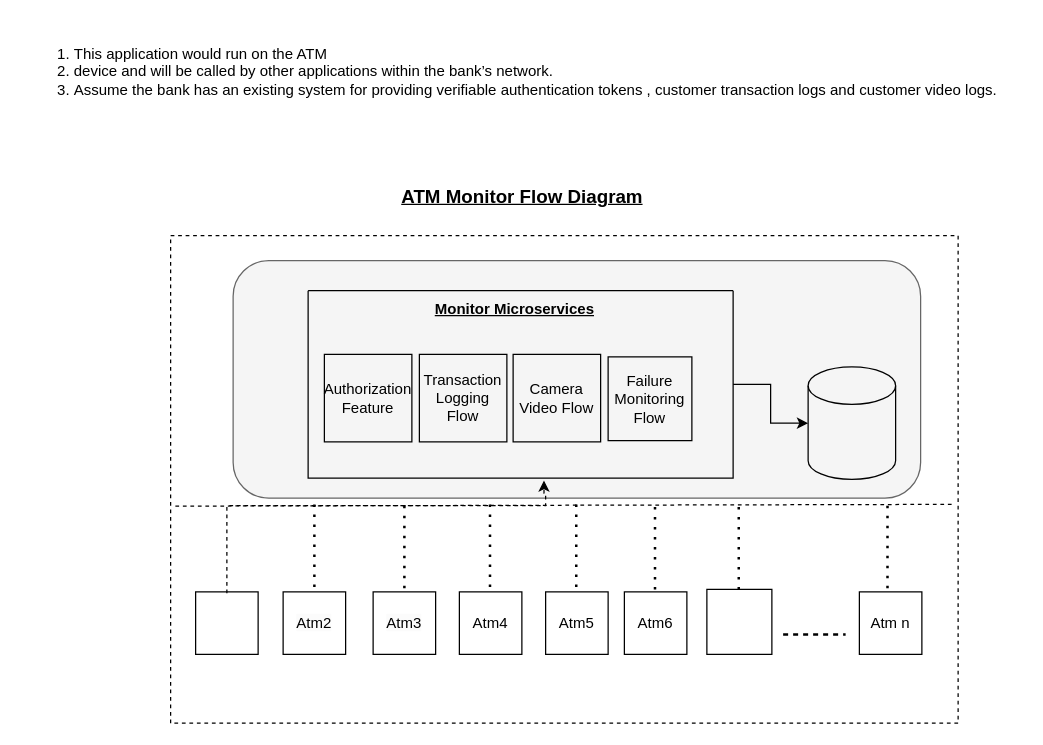
The diagram is 1043 pixels wide and 745 high, and some of its shapes have lost their labels. Here are the shapes that lost their labels. From the top down, the centre of each, then its label:
At point 851,422: "SQL DB".
At point 226,622: "Atm1".
At point 739,621: "Atm7".
